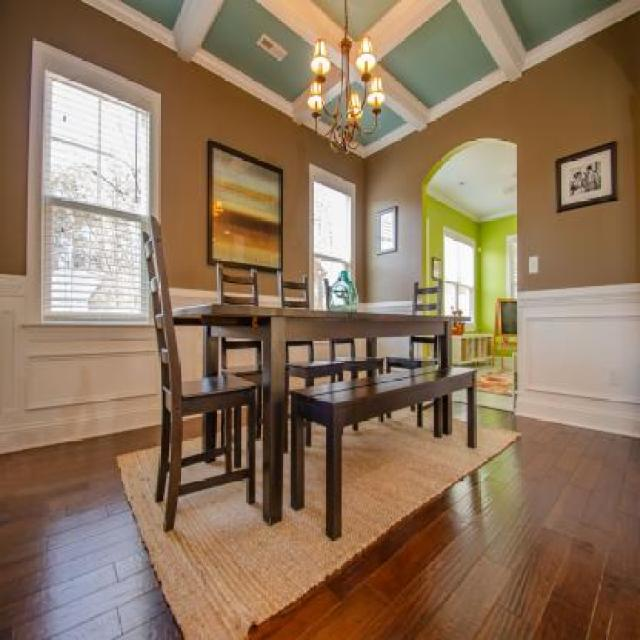floor: (2, 413, 640, 640)
